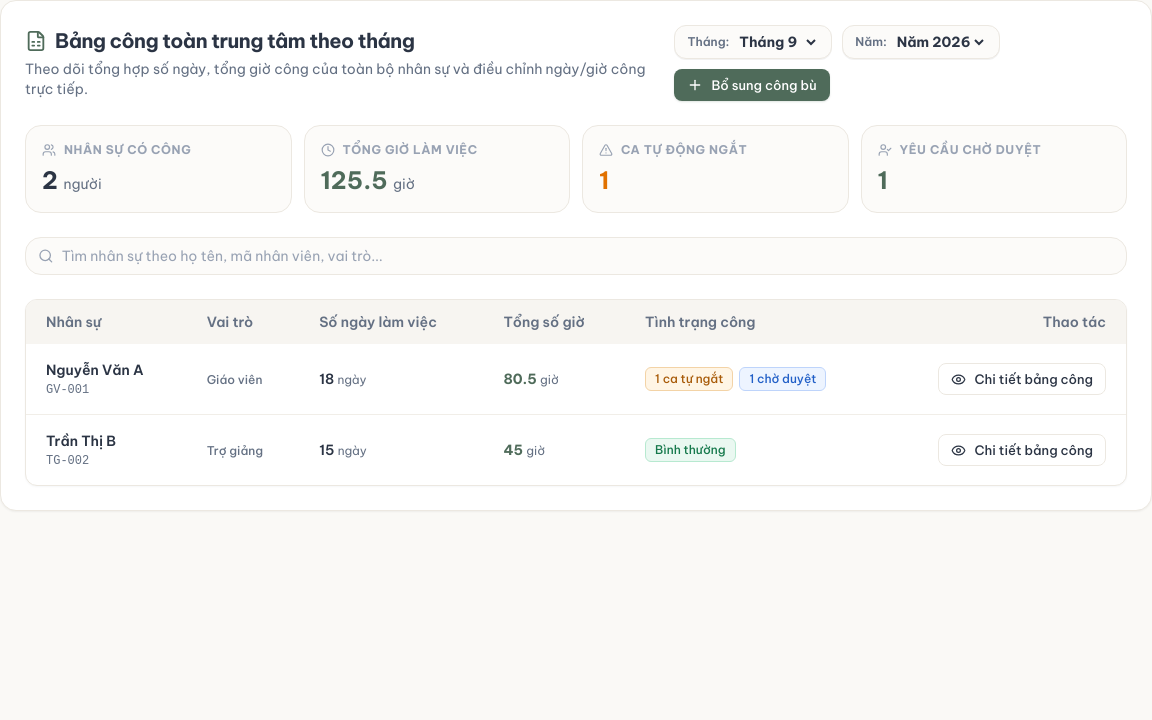
Scenario: CenterMonthlyTimesheetManagement › shows a rejected detail request inside the dialog instead of crashing
What coordinates should you click on to do the following:
click the button "Chi tiết bảng công" in the row of "Nguyễn Văn A"
I would click on:
 (1022, 379)
Its box is [938,363,1106,395].
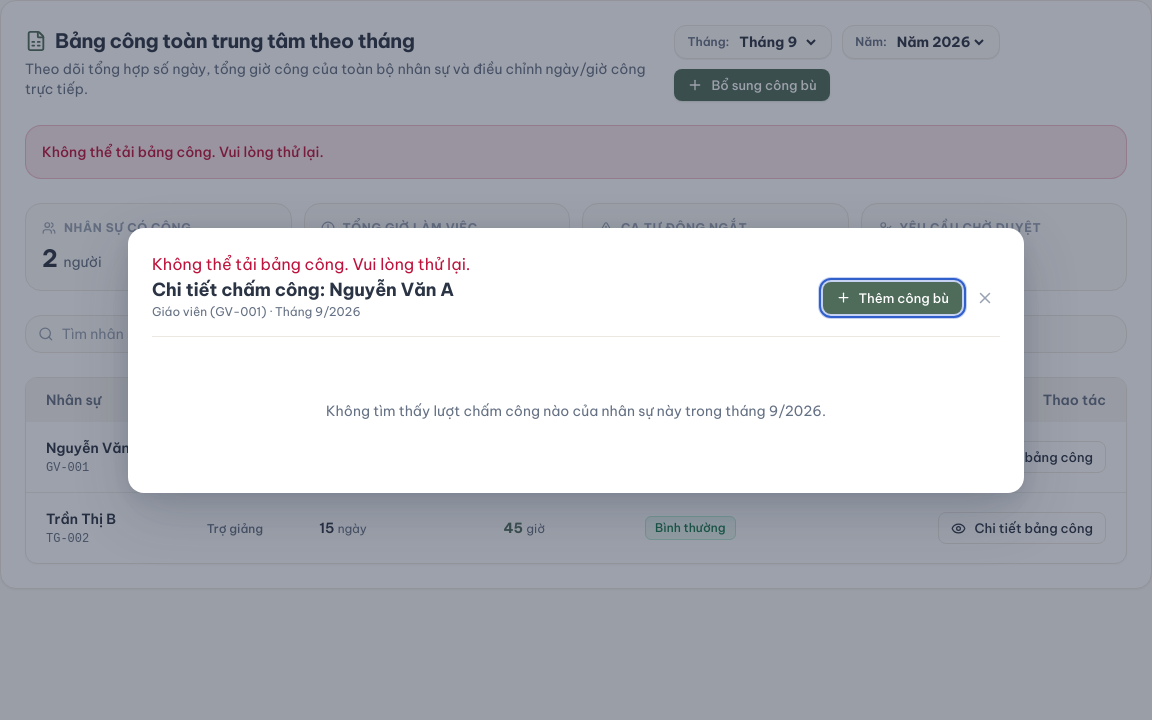
Expected: the message shows "Không thể tải bảng công", [152,254,470,274]
